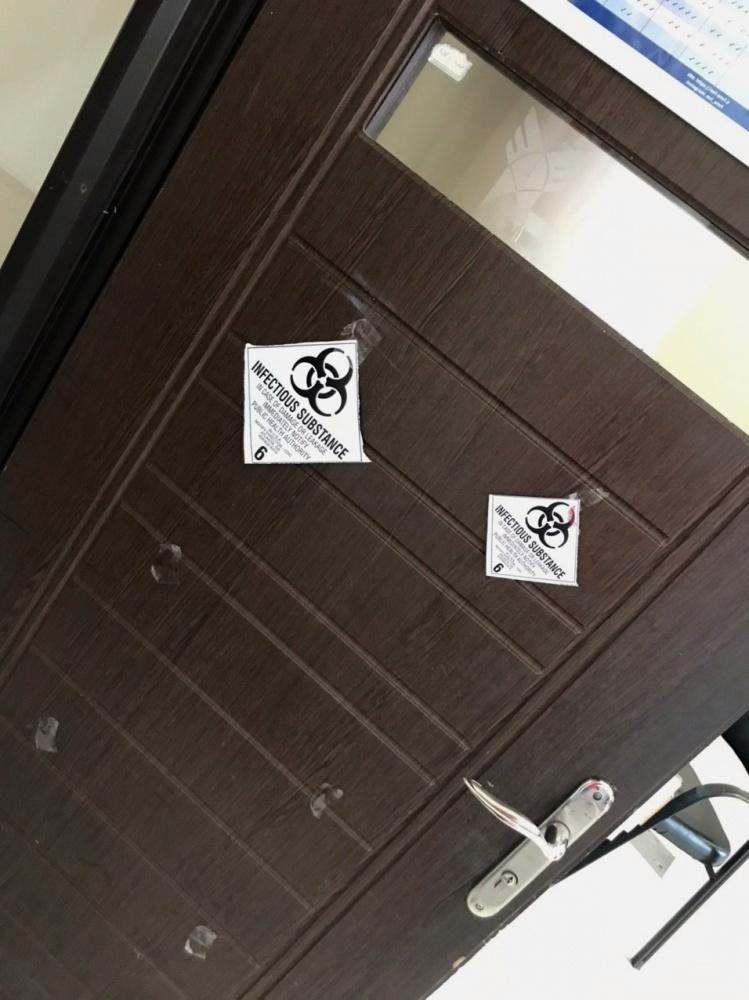infectious-substance: (246, 337, 377, 470), (482, 488, 585, 591)
